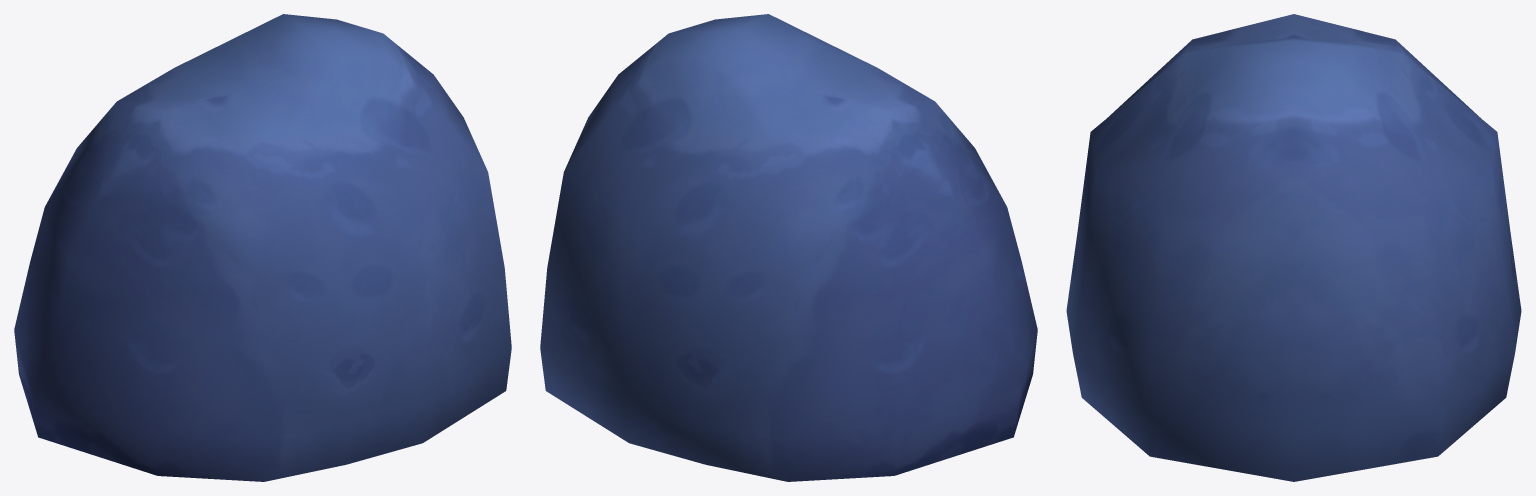
The picture shows the model from 3 angles, left to right: view 1: azimuth 30°, elevation 25°; view 2: azimuth 150°, elevation 25°; view 3: azimuth 270°, elevation 25°; orthographic projection. The views are drawn at different scales.
Visible parts, largest first — view 1: wk_s02_48; view 2: wk_s02_48; view 3: wk_s02_48.
Part boxes in pixels (x1,y1,x2,y2): wk_s02_48: (14,14,511,481); wk_s02_48: (540,14,1037,481); wk_s02_48: (1066,14,1521,481).
Size of the model in its own units: 0.9449 by 0.7816 by 0.6689.
Materials: 1 (1 with a texture image).
